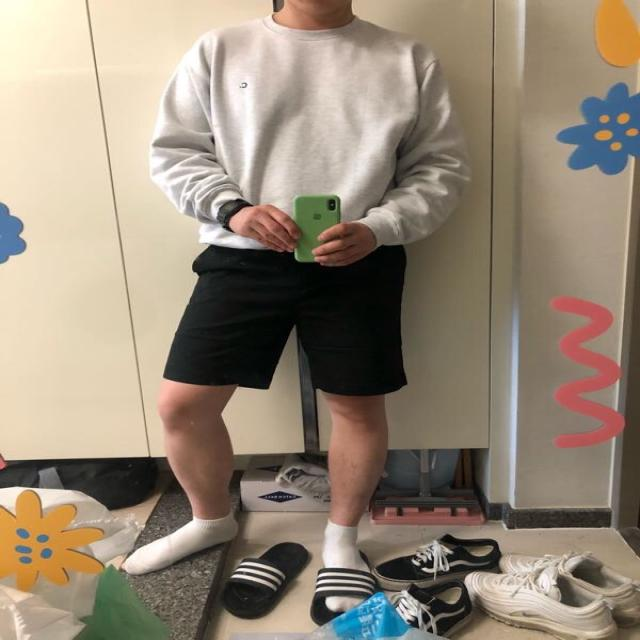mtm: (146, 12, 470, 256)
shortpants: (161, 235, 408, 396)
